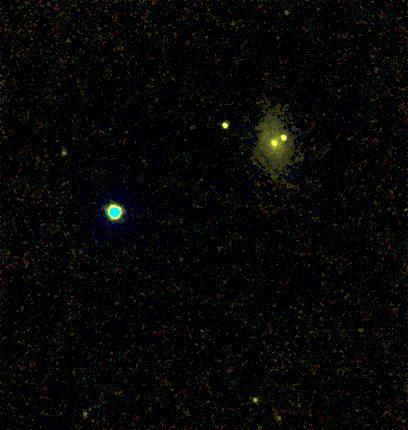star: (267, 118, 297, 148)
